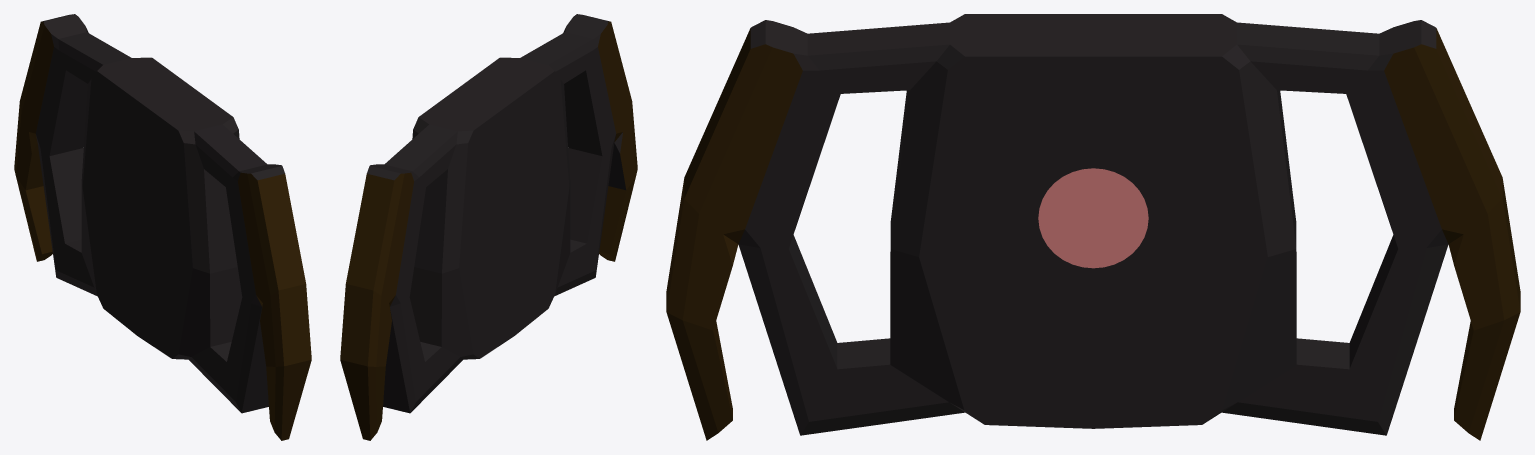
Rendered from volante.fbx.
The picture shows the model from 3 angles, left to right: view 1: azimuth 30°, elevation 25°; view 2: azimuth 150°, elevation 25°; view 3: azimuth 270°, elevation 25°; orthographic projection. The views are drawn at different scales.
Parts seen in each view (by area): view 1: Volante; view 2: Volante; view 3: Volante, Logo.
Boxes of the visible parts, box(x1,y1,x2,y2) form: Volante: box(14, 14, 311, 440); Volante: box(340, 14, 637, 440); Volante: box(666, 14, 1520, 440); Logo: box(1038, 168, 1148, 268).
Bounding box in the file's own units: 4.06 × 2.13 × 0.4848.
